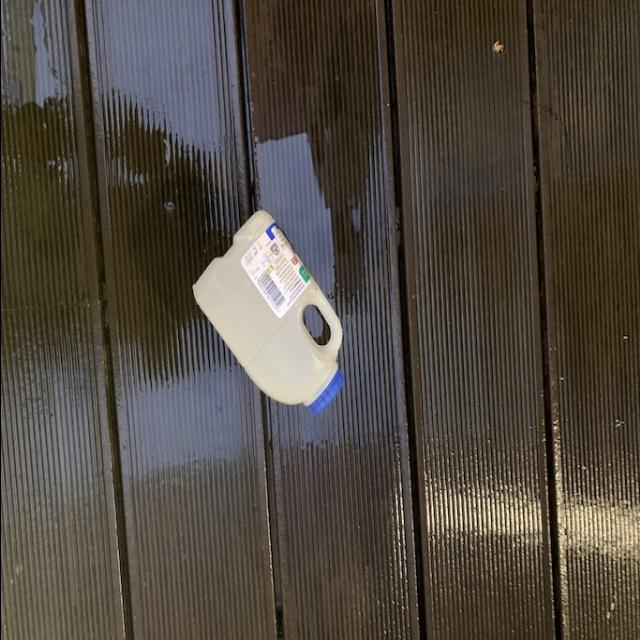litter: (188, 205, 350, 420)
